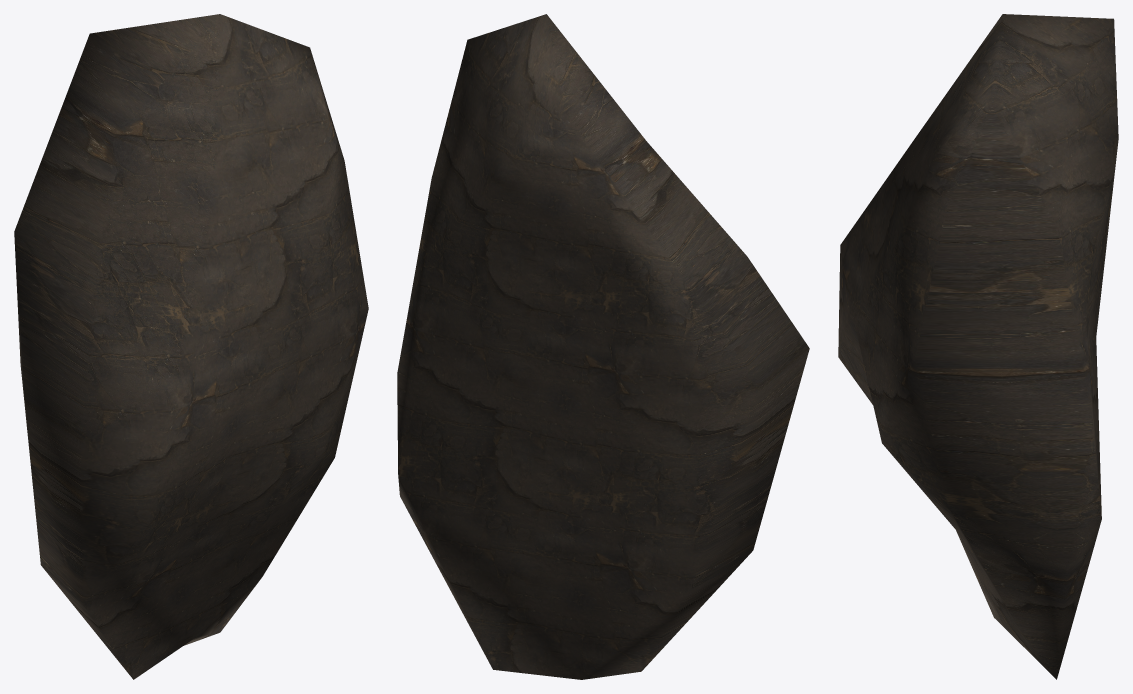
Rendered from cliff_buttress_a_lod3.gltf.
The picture shows the model from 3 angles, left to right: view 1: azimuth 30°, elevation 25°; view 2: azimuth 150°, elevation 25°; view 3: azimuth 270°, elevation 25°; orthographic projection.
Visible parts, largest first — view 1: cliff_buttress_a_LOD3; view 2: cliff_buttress_a_LOD3; view 3: cliff_buttress_a_LOD3.
Part boxes in pixels (box(x1,y1,x2,y2)): cliff_buttress_a_LOD3: box(14, 14, 368, 679); cliff_buttress_a_LOD3: box(397, 14, 809, 679); cliff_buttress_a_LOD3: box(838, 14, 1118, 679).
Size of the model in its own units: 13.5 by 26 by 10.12.
Materials: 1 (1 with a texture image).
